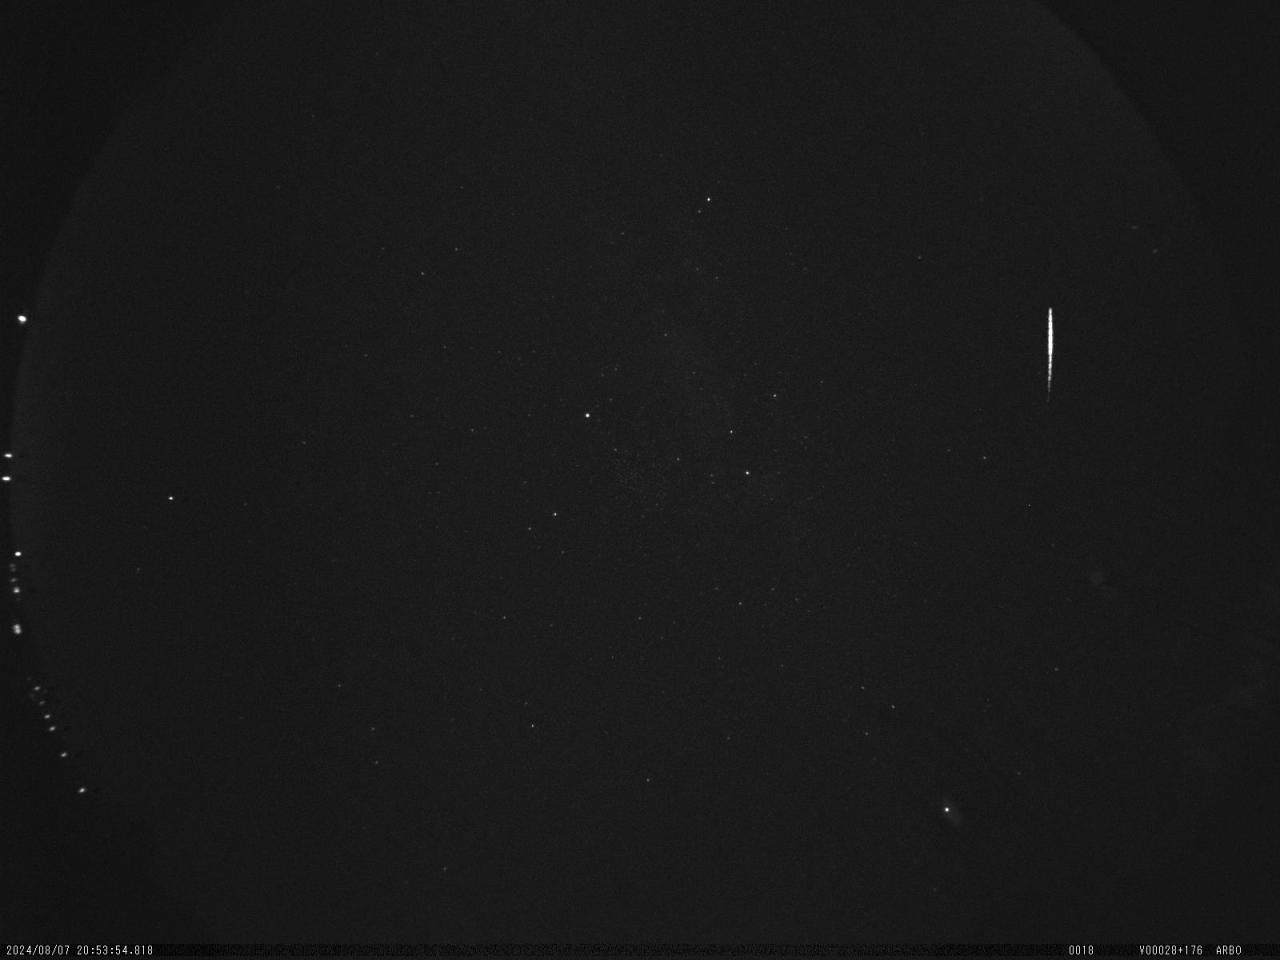Meteor: (1043, 305, 1056, 399)
